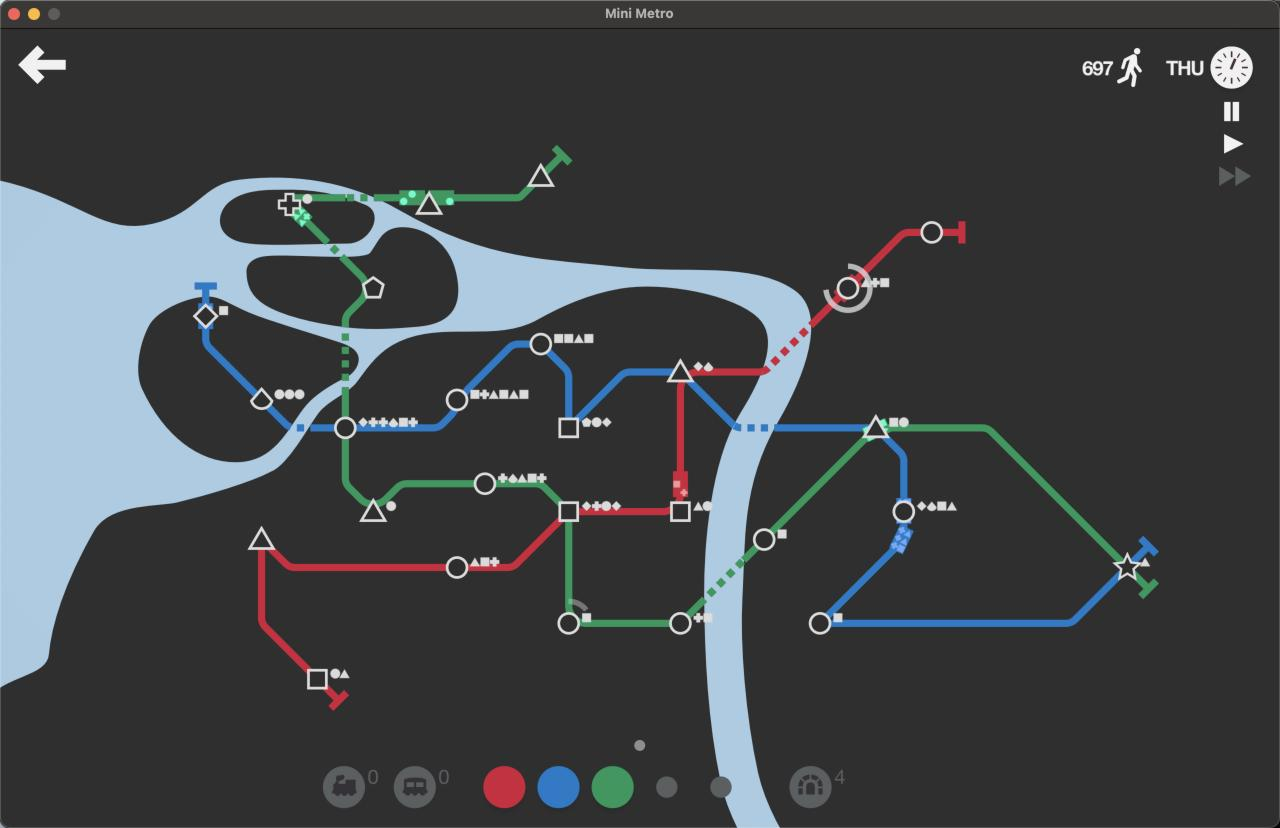CIRCLE: (836, 275, 861, 301), (891, 499, 916, 524), (333, 415, 357, 440), (445, 555, 469, 580), (557, 611, 581, 636), (808, 611, 832, 636), (529, 332, 553, 356), (669, 611, 692, 636), (446, 388, 469, 412), (920, 220, 943, 244), (474, 472, 497, 496), (753, 528, 776, 551)
CROSS: (277, 192, 303, 216)
GEM: (193, 303, 219, 328)
PENTAGON: (362, 276, 385, 300)
SQUARE: (558, 500, 580, 523), (558, 417, 580, 439), (670, 500, 692, 522), (307, 668, 328, 690)
STAR: (1112, 554, 1142, 581)
TRIANGLE: (247, 525, 277, 551), (861, 413, 889, 440), (360, 497, 388, 523), (415, 190, 443, 216), (527, 162, 554, 187), (667, 358, 693, 382)
WEDGE: (250, 387, 273, 410)
